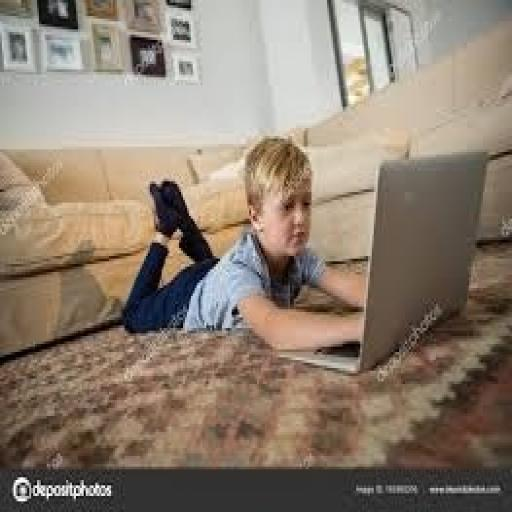using_laptop: (274, 144, 490, 376)
